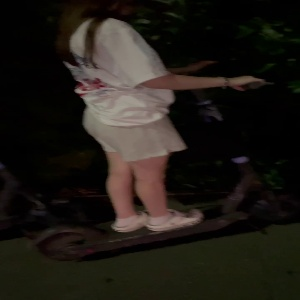human on a scooter: (23, 1, 293, 265)
